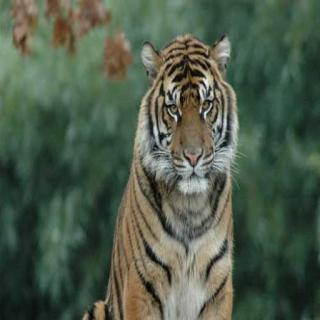Tiger: (83, 28, 243, 320)
